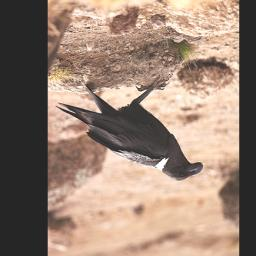Crow: (56, 71, 205, 184)
